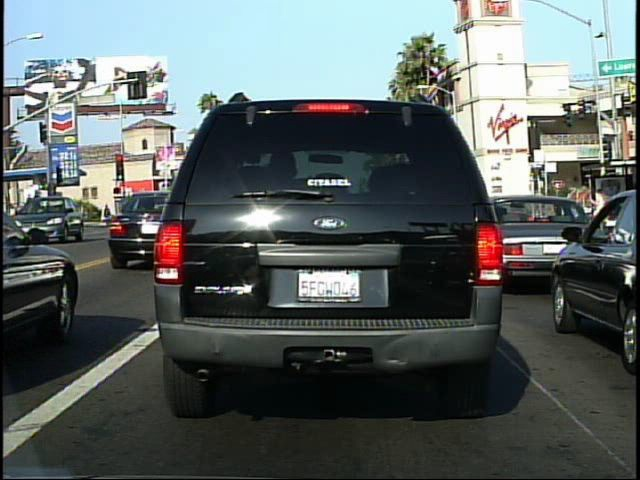person: (588, 184, 610, 244), (99, 196, 115, 230)
